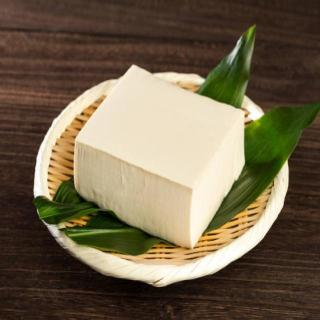Tahu: (59, 59, 260, 257)
